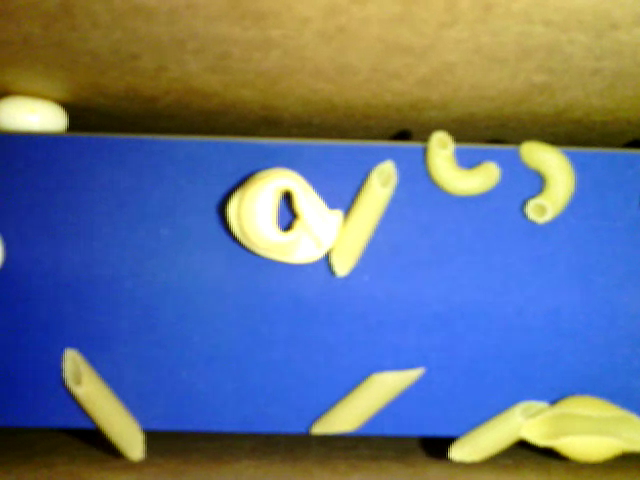elbow: (425, 129, 502, 197), (517, 139, 575, 224)
penne: (62, 347, 146, 462), (329, 158, 399, 279), (310, 365, 427, 436), (449, 399, 552, 464)
shell: (520, 394, 639, 462)
tortellini: (224, 167, 343, 262)
